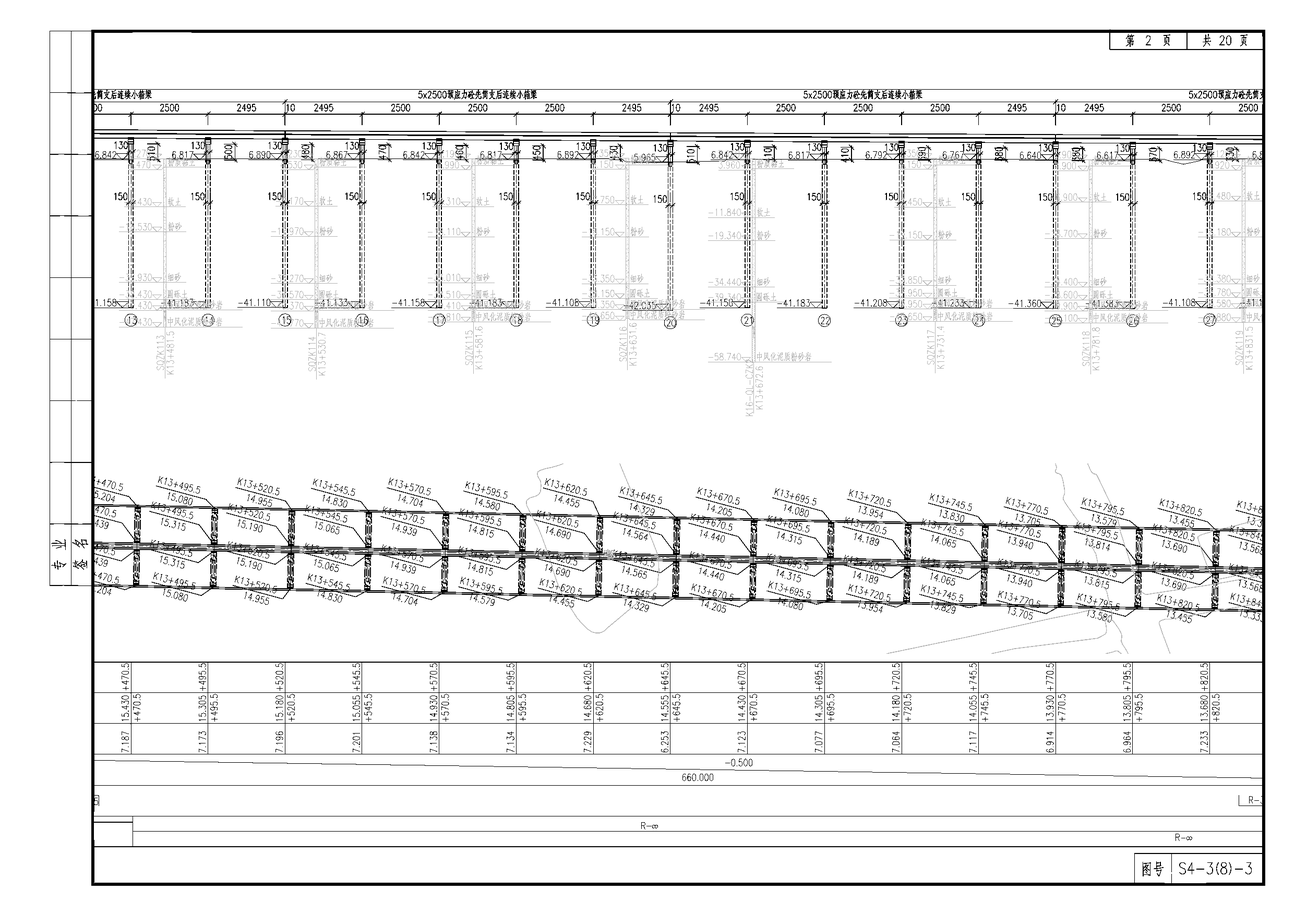A: (91, 74, 1272, 359)
